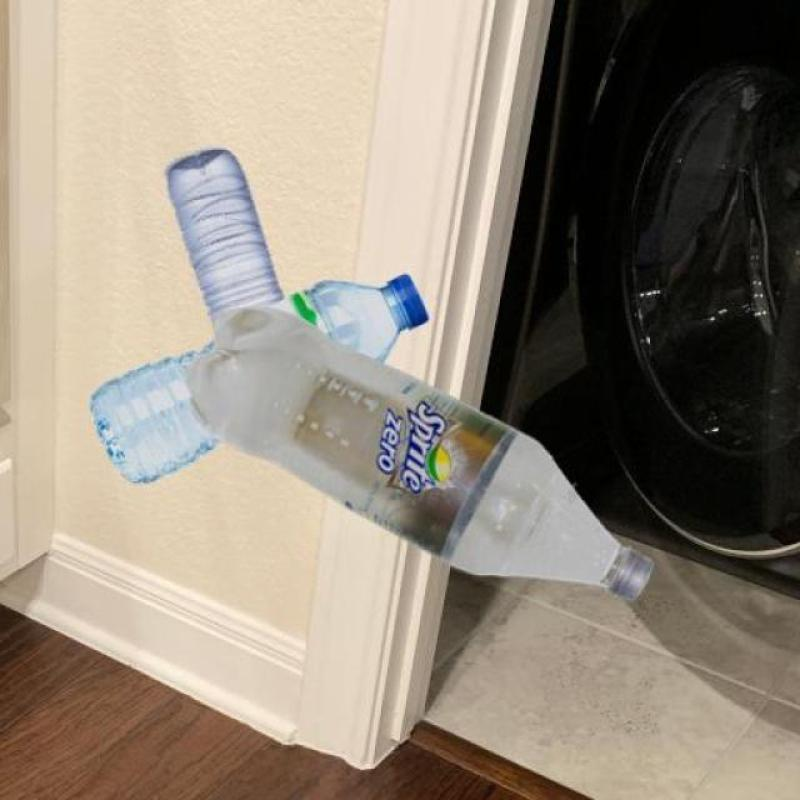botella: (189, 308, 656, 598), (88, 274, 430, 484), (162, 154, 288, 341)
